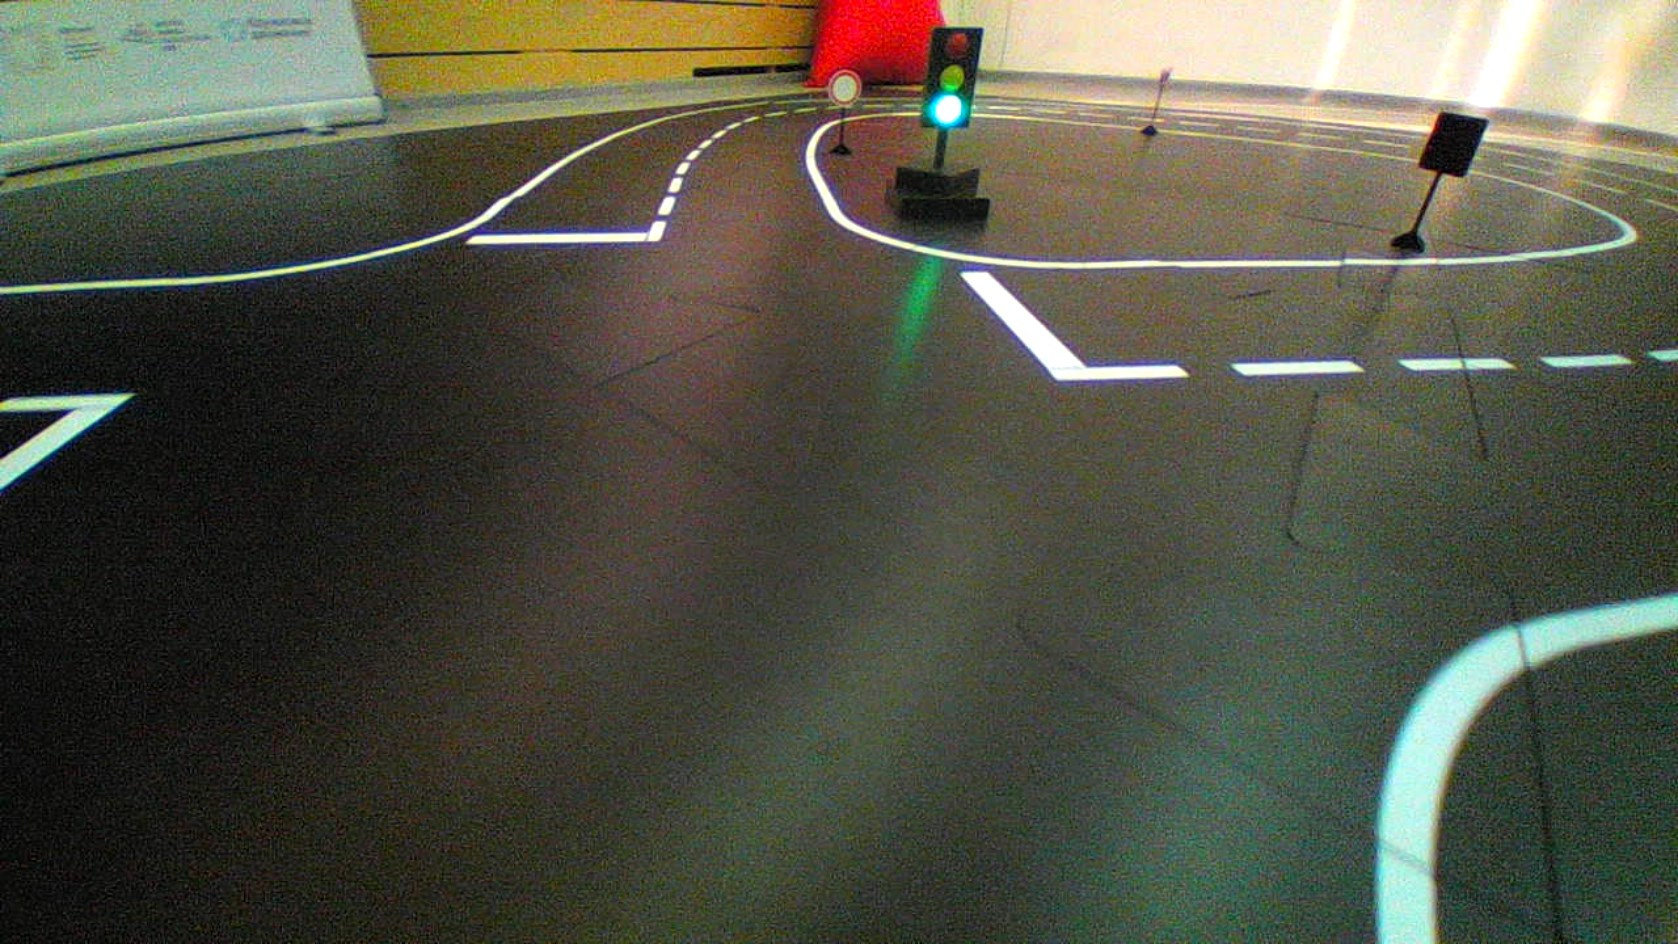trafficlight: (919, 27, 987, 129)
